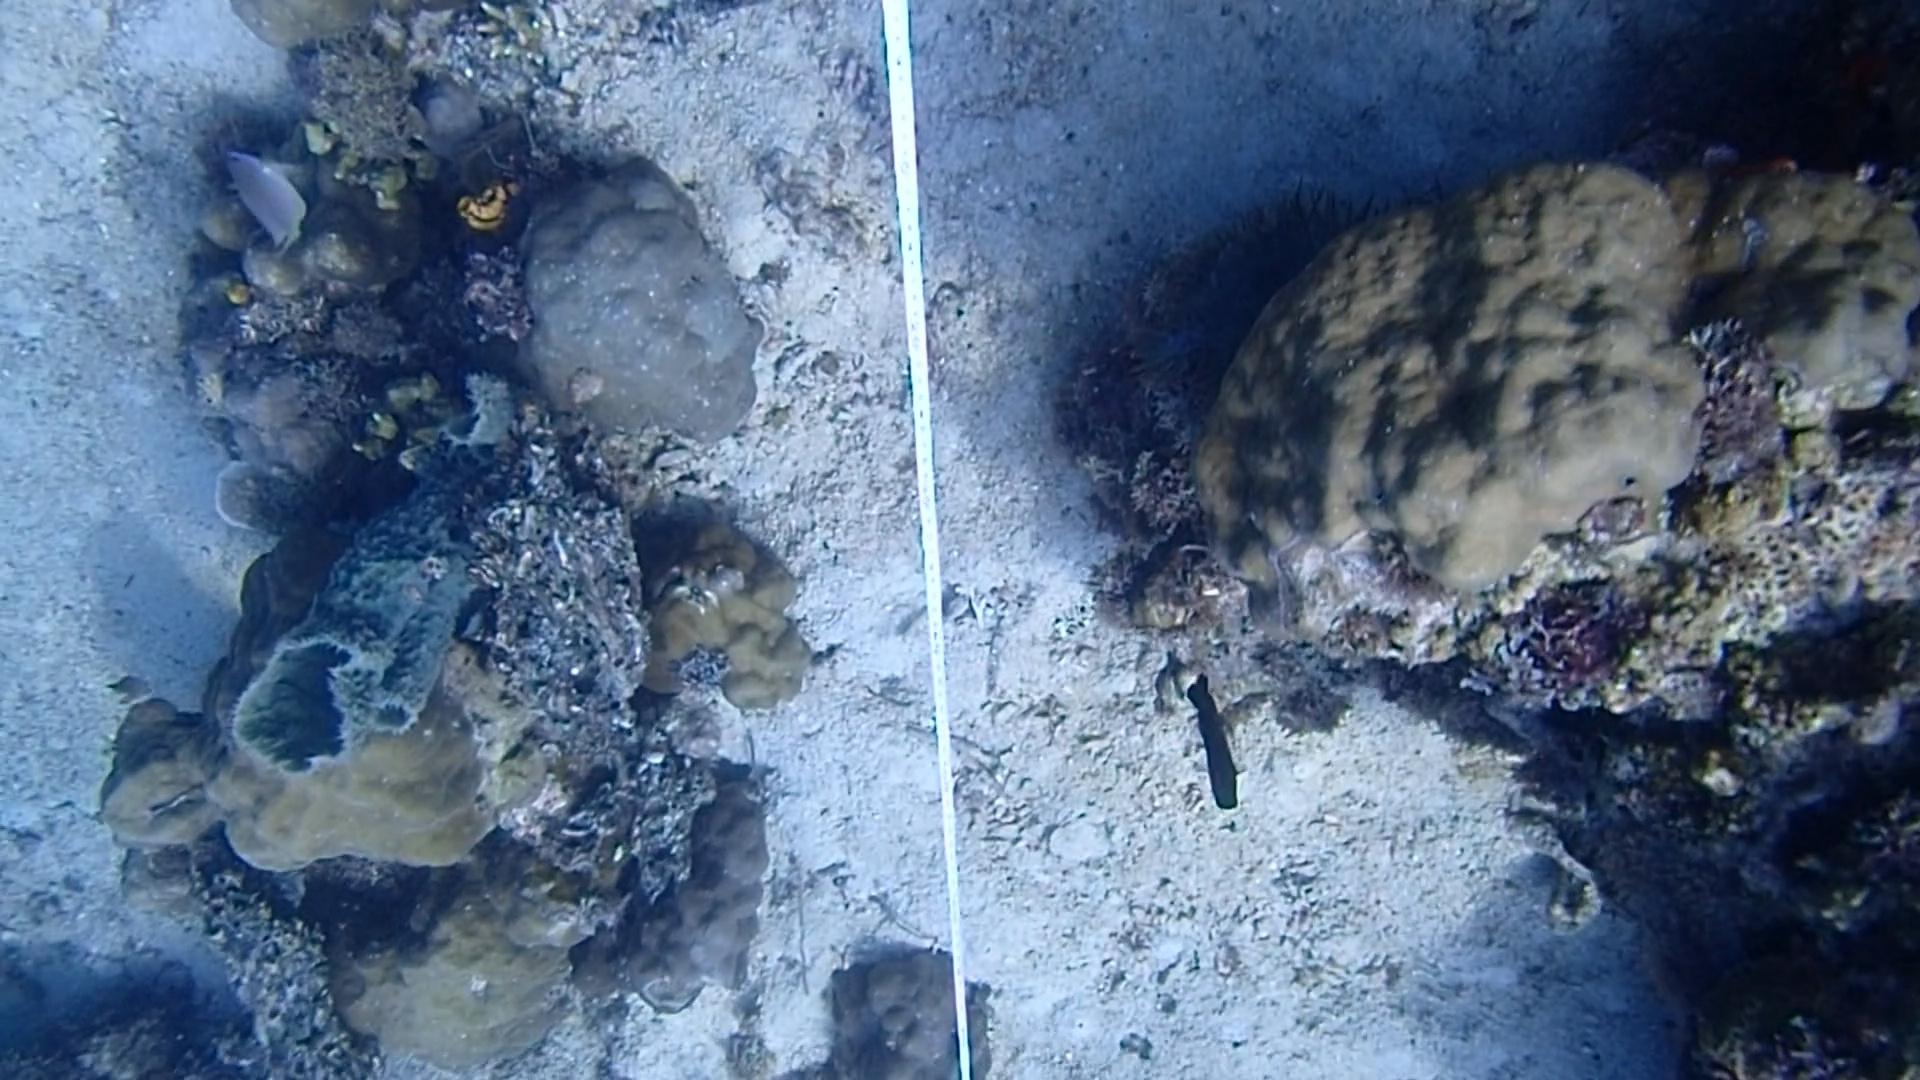Blue Nose Fish: (212, 142, 323, 261)
Dark Fish: (1162, 670, 1249, 822)
